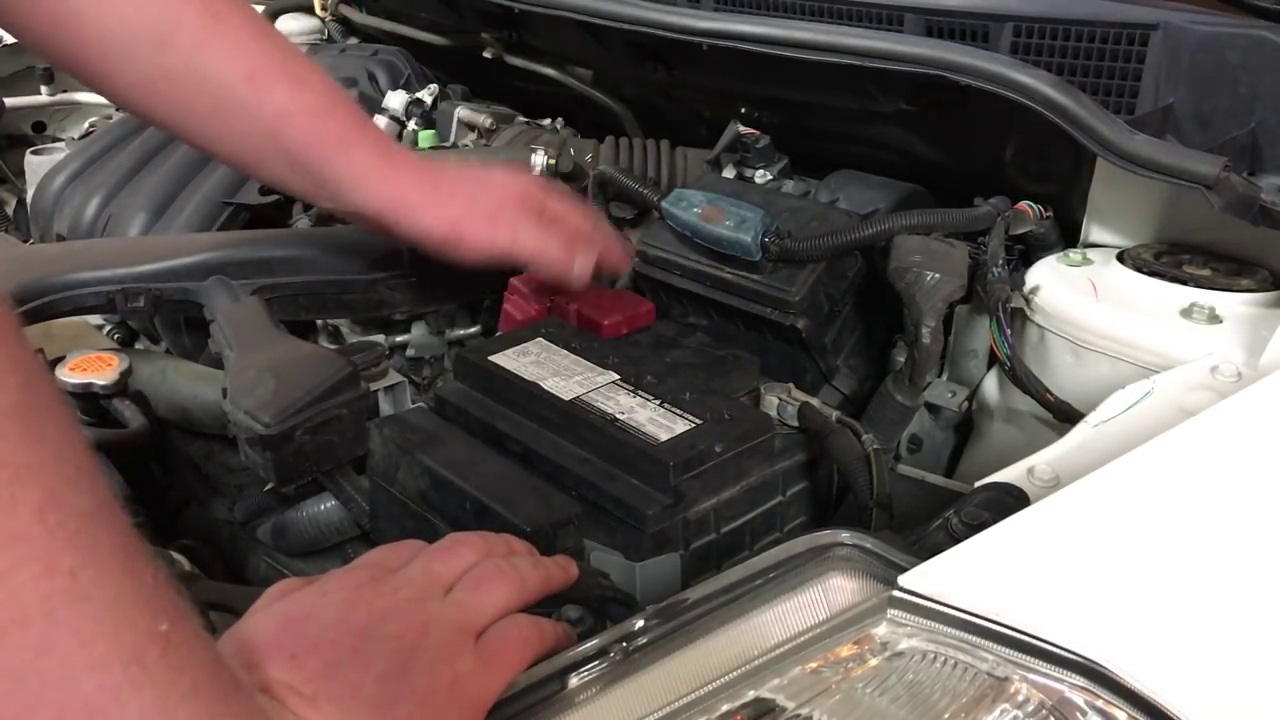battery: (450, 310, 826, 475)
neg_connected: (738, 355, 825, 465)
pos_connected: (488, 244, 660, 371)
